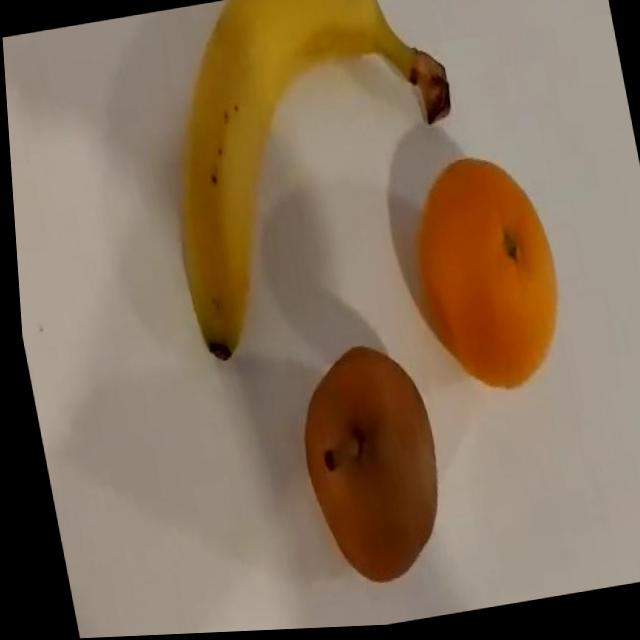Apple: (279, 338, 450, 595)
Banana: (133, 0, 489, 366)
Orange: (394, 149, 571, 405)
